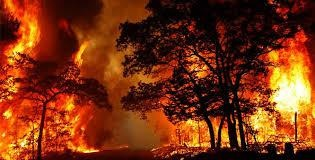fire: (155, 18, 311, 150), (0, 5, 98, 159), (255, 29, 315, 147), (71, 39, 90, 65)
